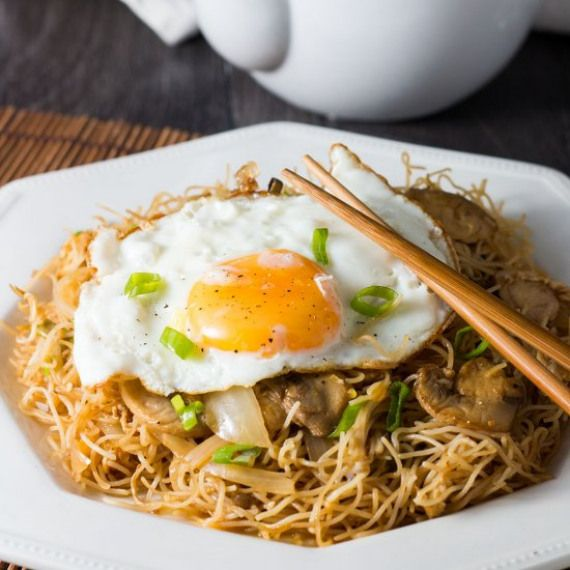fried egg: (107, 228, 413, 361)
plain spaghetti: (127, 446, 441, 531)
